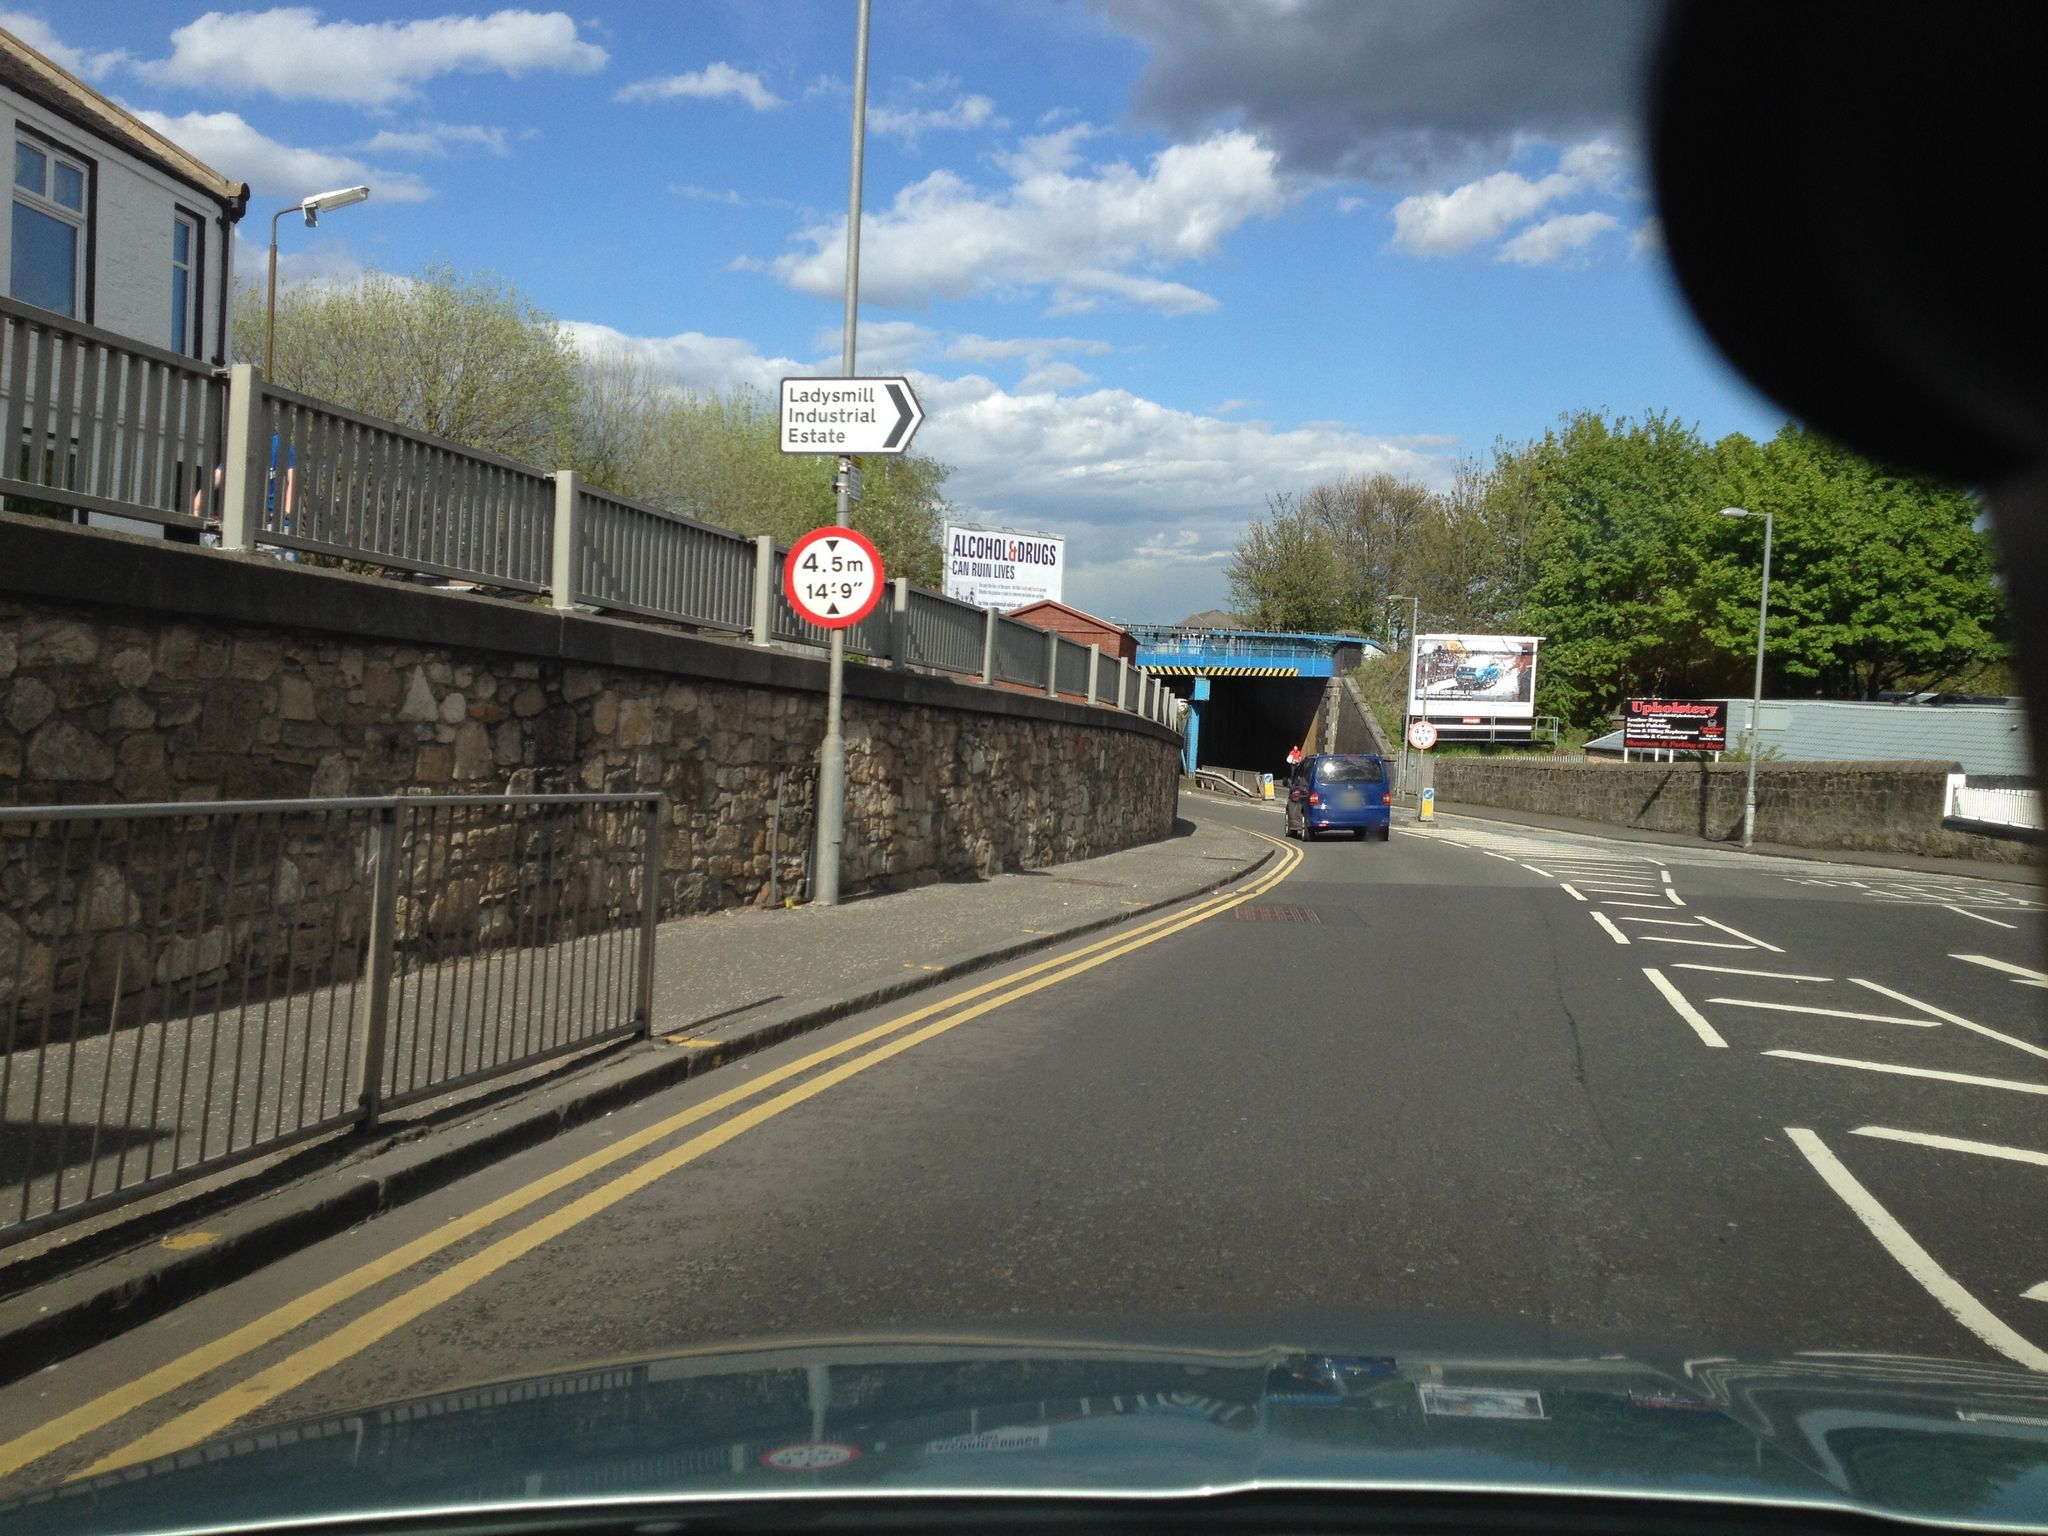car: (1284, 750, 1392, 841)
